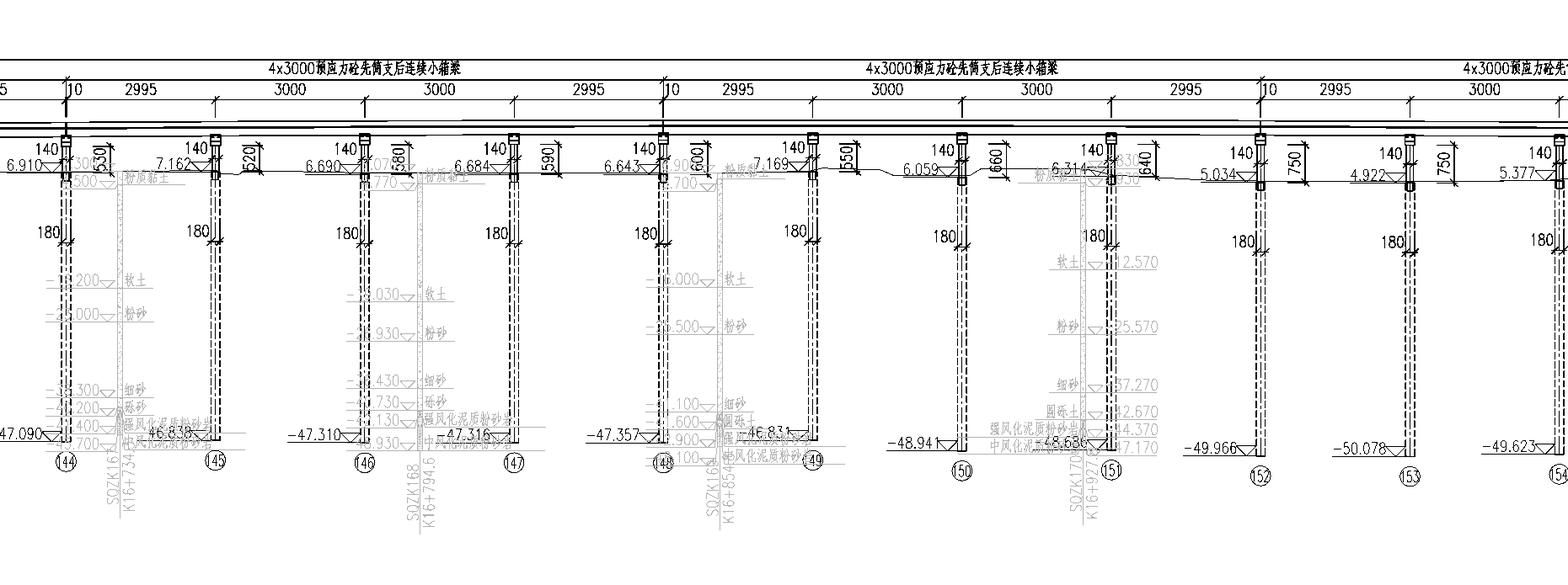C: (1177, 122, 1285, 497), (726, 125, 838, 480), (880, 122, 984, 492), (582, 122, 688, 484), (1330, 125, 1433, 497), (131, 125, 238, 480), (431, 125, 537, 481), (1036, 114, 1136, 488), (283, 125, 388, 480), (1, 127, 90, 481), (1483, 125, 1567, 496)
